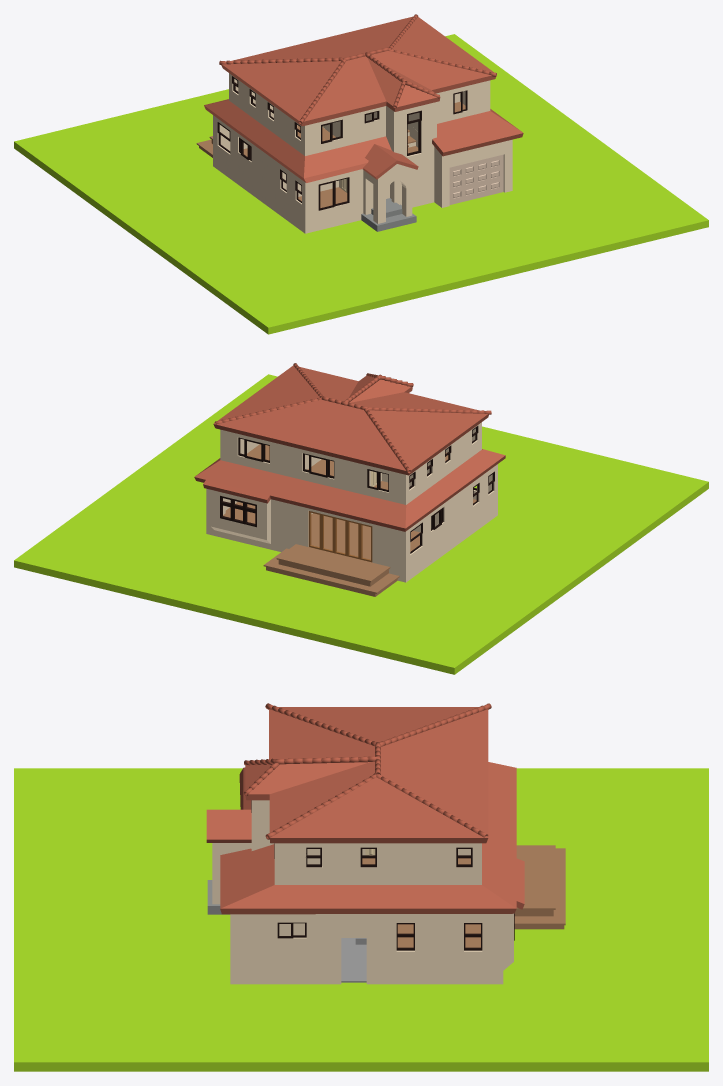
File: My House.glb
3 views of the same model, one above another, from view 1: azimuth 30°, elevation 25°; view 2: azimuth 150°, elevation 25°; view 3: azimuth 270°, elevation 25° (orthographic). The views are drawn at different scales.
Visible parts, largest first — view 1: Ground, Walls, Upper Roof Base, Lower Roof Base, Garage Door, Porch Structure, Porch Roof, Front Steps; view 2: Ground, Upper Roof Base, Walls, Lower Roof Base, Backyard Deck.002, Floor, Window Extension, Deck Window, Backyard Deck, Backyard Deck.001, Frame.013, Floor 2; view 3: Ground, Upper Roof Base, Walls, Lower Roof Base, Backyard Deck.002, Porch Roof, Backyard Deck.001, Garage Floor, Porch Structure, Floor, Roof Spine.001, Roof Spine (+4 smaller).
Boxes of the visible parts, x1=… form: Ground: x1=14, y1=34, x2=708, y2=334; Walls: x1=213, y1=73, x2=512, y2=233; Upper Roof Base: x1=221, y1=16, x2=495, y2=126; Lower Roof Base: x1=204, y1=99, x2=523, y2=182; Garage Door: x1=449, y1=154, x2=503, y2=204; Porch Structure: x1=363, y1=164, x2=412, y2=223; Porch Roof: x1=362, y1=144, x2=418, y2=179; Front Steps: x1=361, y1=198, x2=416, y2=231; Ground: x1=14, y1=374, x2=708, y2=674; Upper Roof Base: x1=213, y1=365, x2=488, y2=475; Walls: x1=206, y1=422, x2=497, y2=582; Lower Roof Base: x1=194, y1=449, x2=505, y2=531; Backyard Deck.002: x1=276, y1=544, x2=390, y2=582; Floor: x1=225, y1=499, x2=476, y2=559; Window Extension: x1=210, y1=490, x2=270, y2=543; Deck Window: x1=308, y1=511, x2=372, y2=562; Backyard Deck: x1=266, y1=560, x2=397, y2=596; Backyard Deck.001: x1=263, y1=548, x2=399, y2=593; Frame.013: x1=220, y1=495, x2=256, y2=527; Floor 2: x1=247, y1=444, x2=448, y2=489; Ground: x1=14, y1=768, x2=708, y2=1071; Upper Roof Base: x1=245, y1=707, x2=488, y2=843; Walls: x1=230, y1=800, x2=503, y2=984; Lower Roof Base: x1=220, y1=762, x2=524, y2=914; Backyard Deck.002: x1=516, y1=845, x2=555, y2=909; Porch Roof: x1=206, y1=809, x2=251, y2=842; Backyard Deck.001: x1=514, y1=848, x2=565, y2=925; Garage Floor: x1=341, y1=938, x2=366, y2=982; Porch Structure: x1=212, y1=843, x2=251, y2=904; Floor: x1=397, y1=924, x2=480, y2=947; Roof Spine.001: x1=379, y1=703, x2=491, y2=746; Roof Spine: x1=265, y1=703, x2=375, y2=746.
Bounding box in the file's own units: 22.48 × 6.26 × 22.48.
